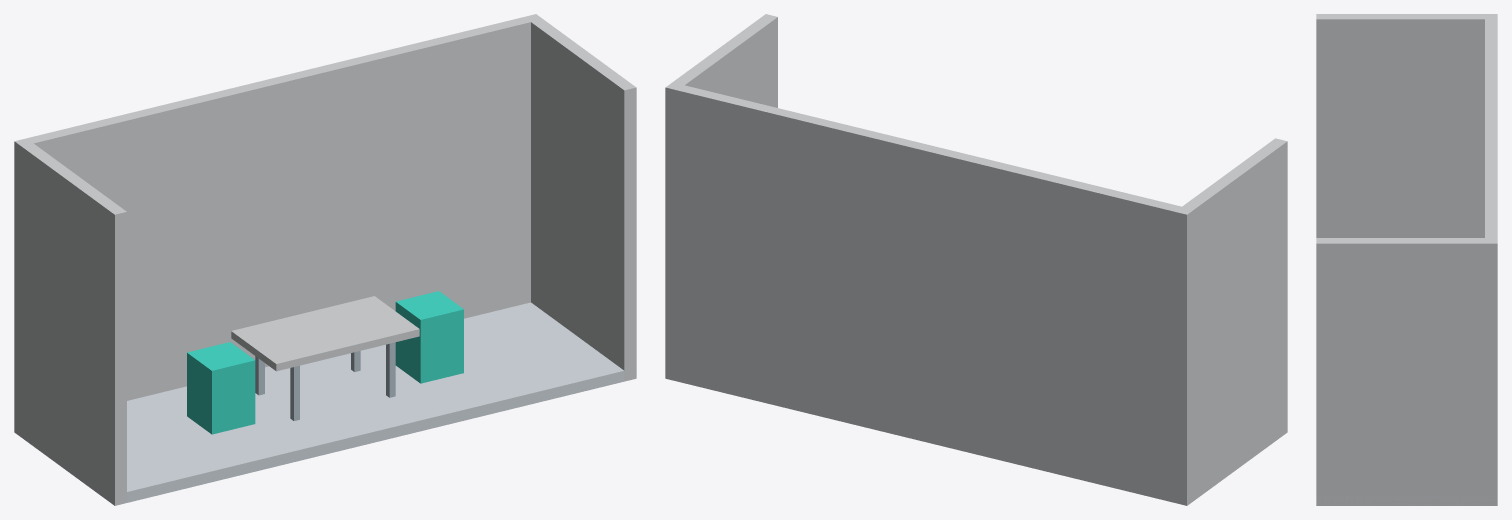
The picture shows the model from 3 angles, left to right: view 1: azimuth 30°, elevation 25°; view 2: azimuth 150°, elevation 25°; view 3: azimuth 270°, elevation 25°; orthographic projection. The views are drawn at different scales.
Parts seen in each view (by area): view 1: Exhibition Booth Concept; view 2: Exhibition Booth Concept; view 3: Exhibition Booth Concept.
Part boxes in pixels (bbox=[...]): Exhibition Booth Concept: bbox=[14, 14, 636, 505]; Exhibition Booth Concept: bbox=[665, 14, 1287, 505]; Exhibition Booth Concept: bbox=[1316, 14, 1497, 505].
Size of the model in its own units: 6 by 3.2 by 2.
